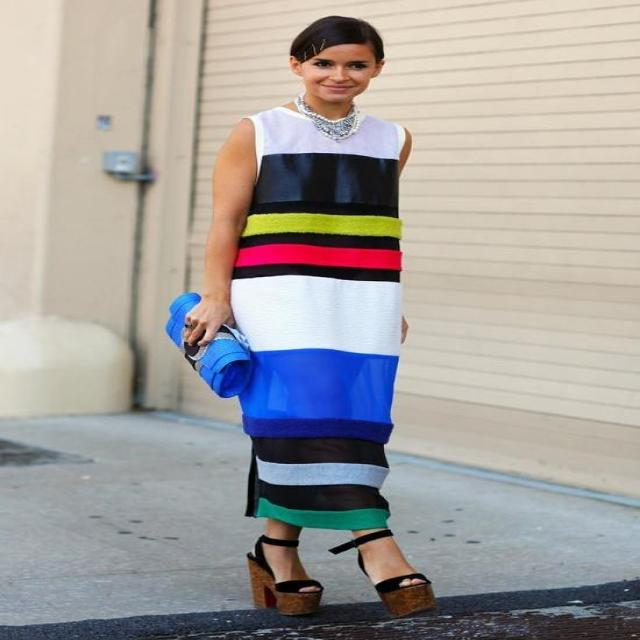dress: (231, 105, 406, 531)
